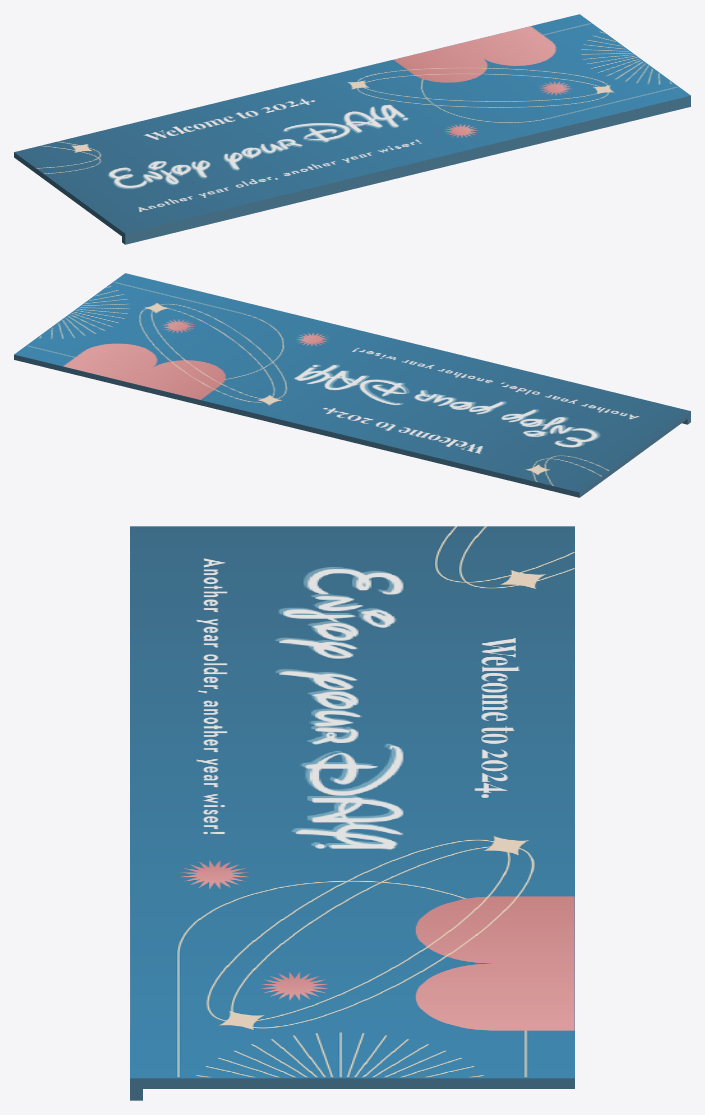
File: card.glb
The picture shows the model from 3 angles, top to bottom: view 1: azimuth 30°, elevation 25°; view 2: azimuth 150°, elevation 25°; view 3: azimuth 270°, elevation 25°; orthographic projection. The views are drawn at different scales.
Size of the model in its own units: 0.9994 by 0.0189 by 0.3405.
2 materials, 1 textured.
